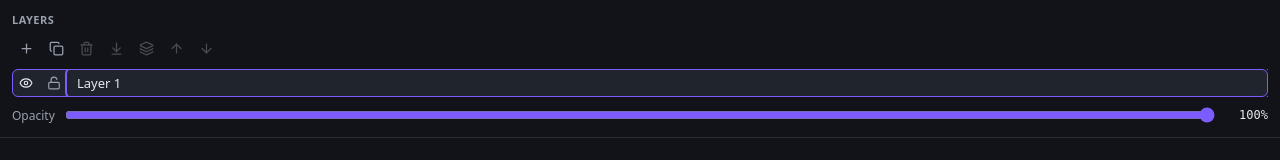
Test case: LayersPanel › renames with F2 and double click, Enter to accept and Escape to cancel
Press F2
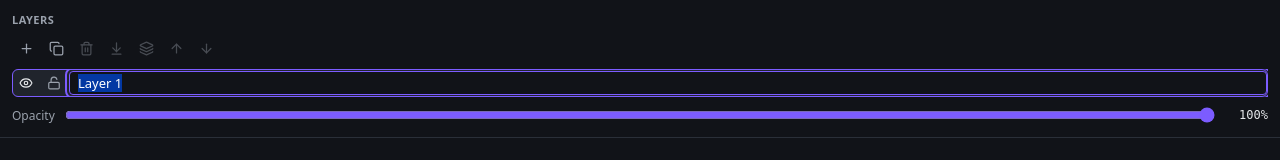
Replace the text in the field named "Rename Layer 1" with "Sky" at (668,83), box [69, 71, 1267, 95]
Then press Enter
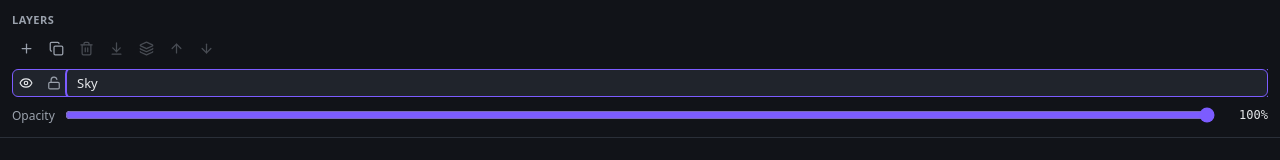
Result: the button "Sky" is shown
Double-click the button "Sky" at (87,83), box [69, 70, 1267, 96]
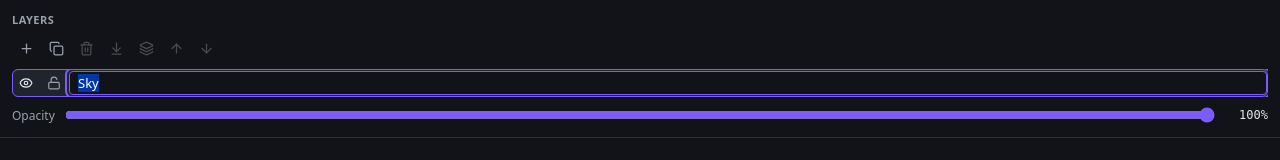
Type "xx" into the field named "Rename Sky" at (668,83), box [69, 71, 1267, 95]
Then press Escape
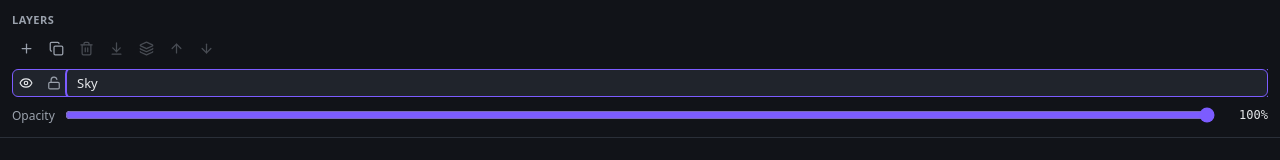
Result: the button "Sky" is shown at [69, 70, 1267, 96]
Result: the field is gone
